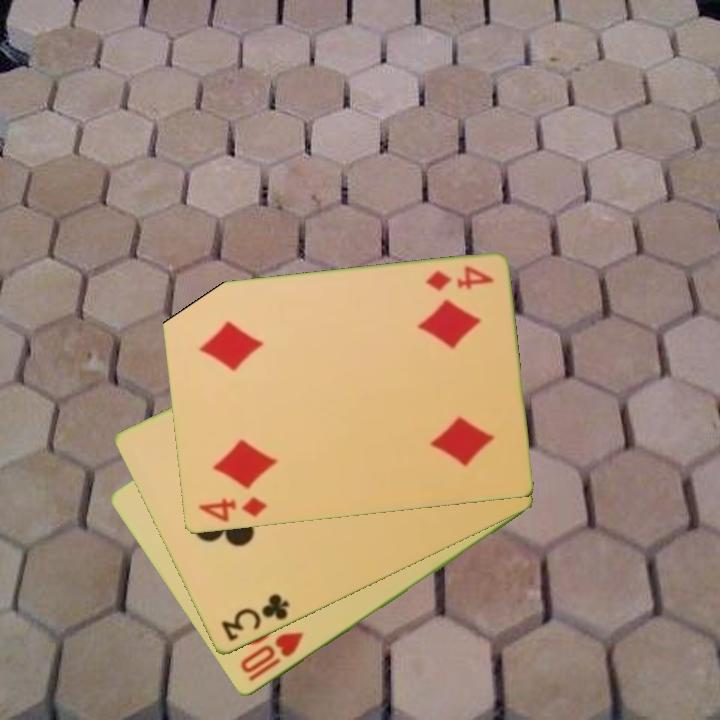10h: (236, 628, 307, 685)
3c: (217, 590, 292, 645)
4d: (195, 494, 270, 526), (422, 263, 496, 294)
